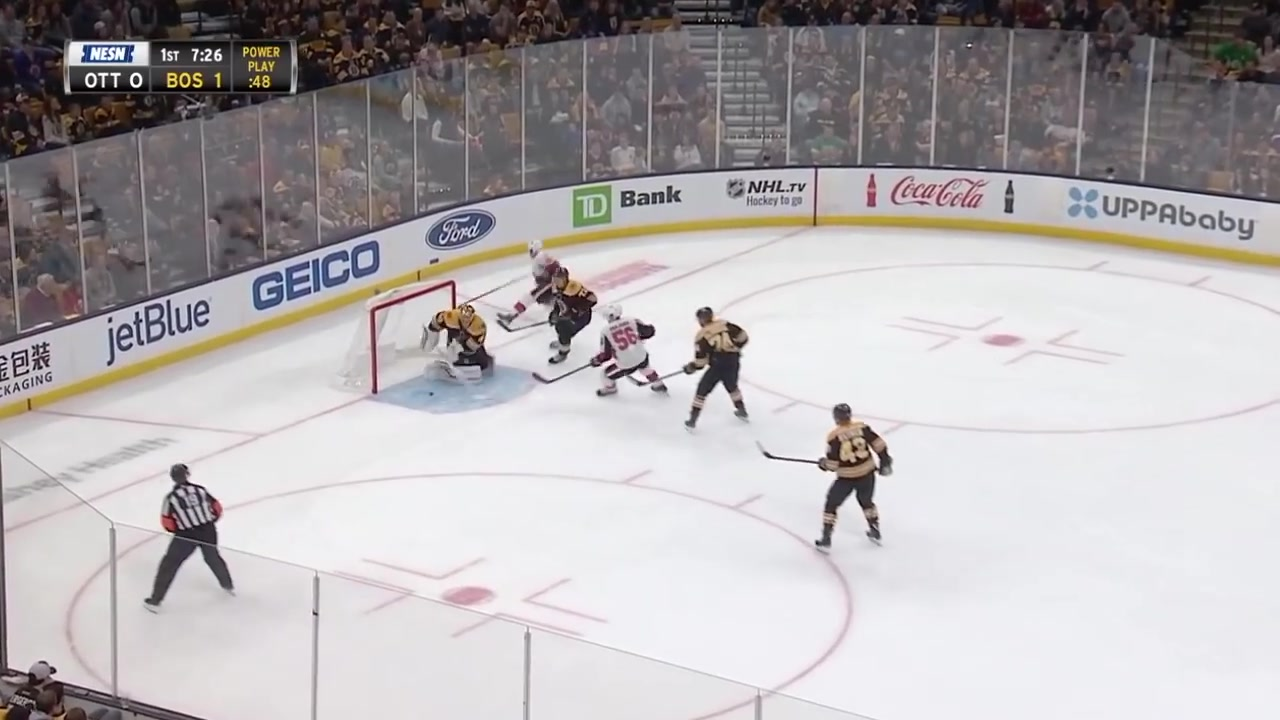geico: (244, 234, 389, 317)
